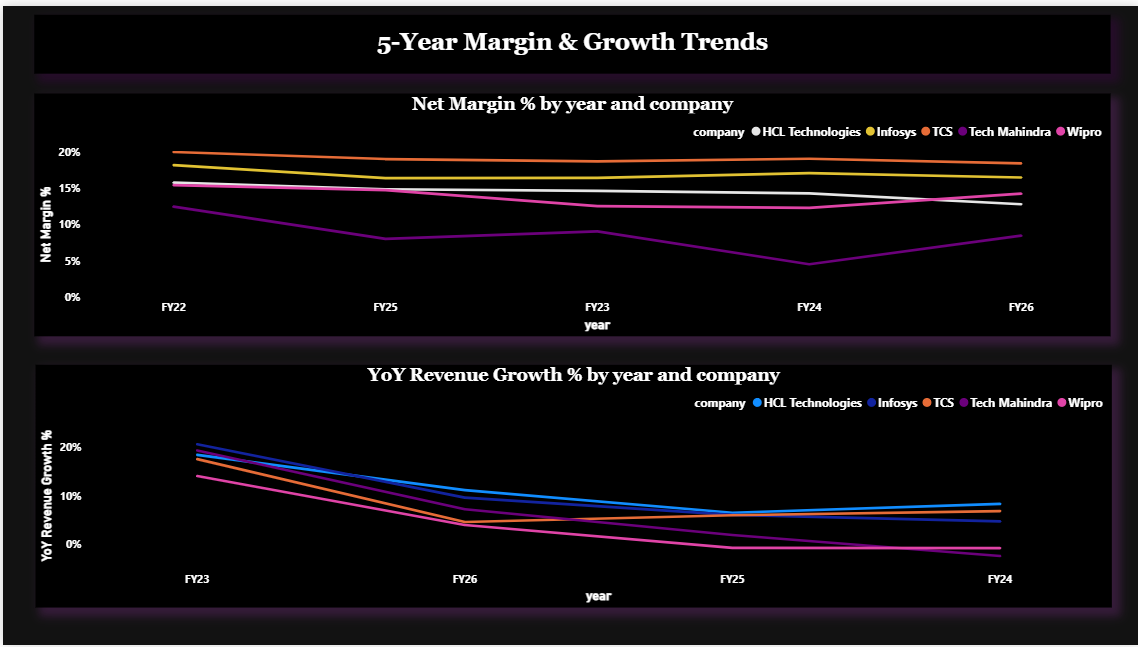

The page's visual inventory and layout, read from the dashboard file:
{"tool":"powerbi","page":{"name":"Trend","canvas":[1280,720],"ordinal":2},"visuals":[{"type":"textbox","box":[35.2,9.9,1212.7,66.2],"z":0},{"type":"lineChart","fields":{"Category":["public it_financials.year"],"Series":["public it_financials.company"],"Y":["Measures (2).Net Margin %"]},"box":[35.2,98.6,1212.7,273.2],"z":1000},{"type":"lineChart","fields":{"Category":["public it_financials.year"],"Series":["public it_financials.company"],"Y":["Measures (2).YoY Revenue Growth %"]},"box":[36.6,404.2,1212.7,273.2],"z":2000}]}

Visuals, with their boxes in screenshot pixels (x1, y1, x2, y2), scaled from the page's 1280x720 canvas onto the 1138x647 screenshot:
textbox: [31,9,1109,68]
lineChart - public it_financials.year x public it_financials.company: [31,89,1109,334]
lineChart - public it_financials.year x public it_financials.company: [33,363,1111,609]
